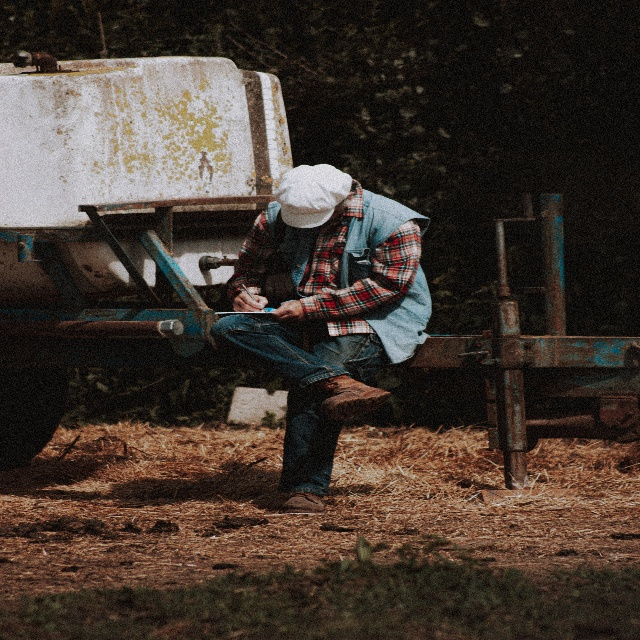Sin_guantes: (272, 299, 305, 324), (233, 288, 267, 311)
